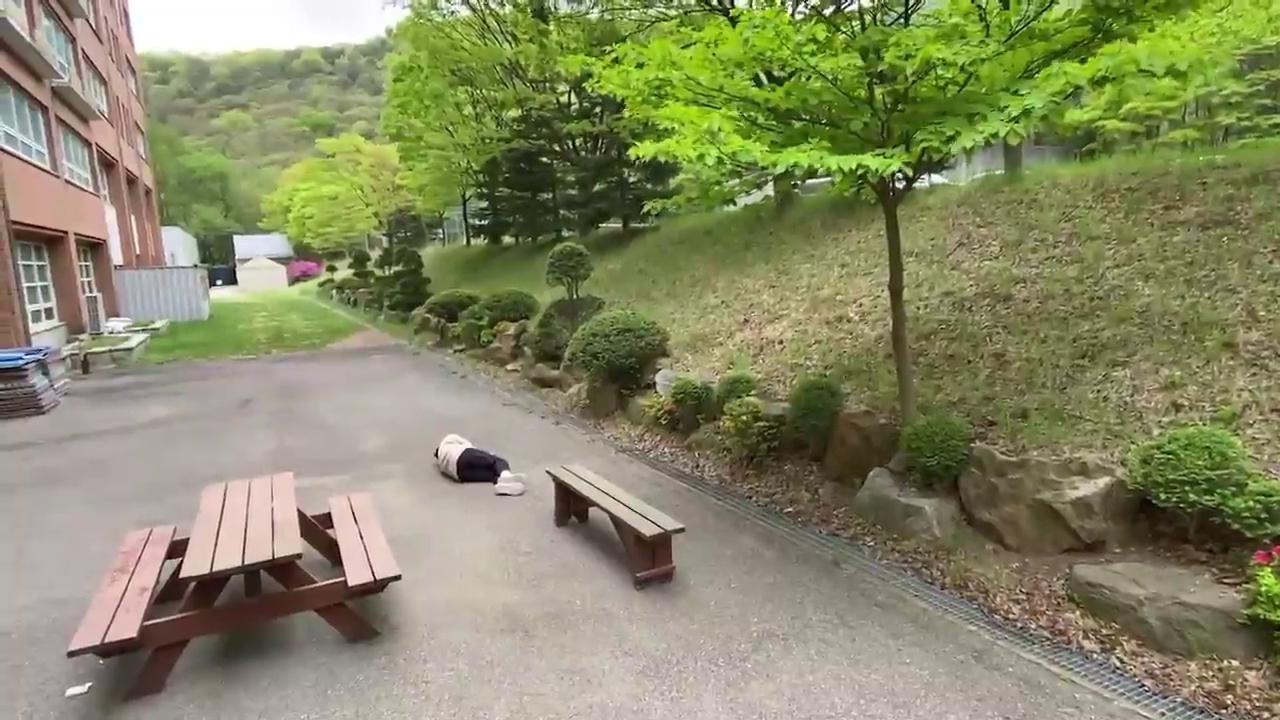faint: (433, 432, 533, 499)
